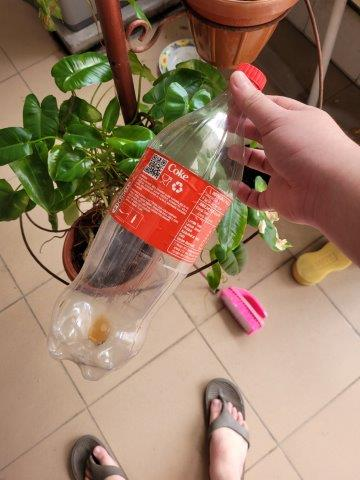botolplastik: (48, 65, 263, 374)
